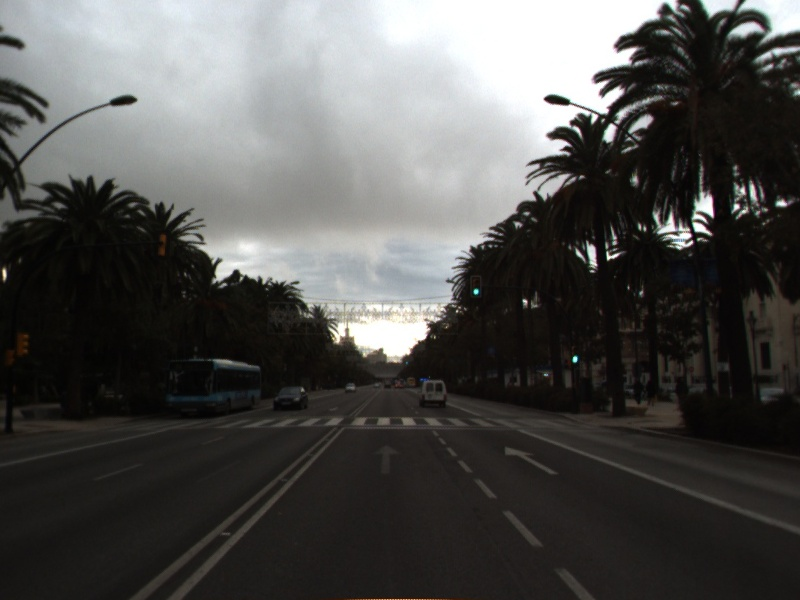STRAIGHT: (502, 444, 561, 477), (370, 442, 404, 475)
